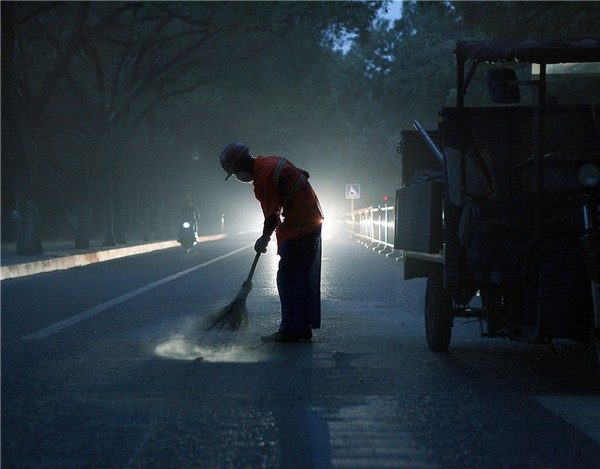safetyhat: (202, 126, 336, 345)
